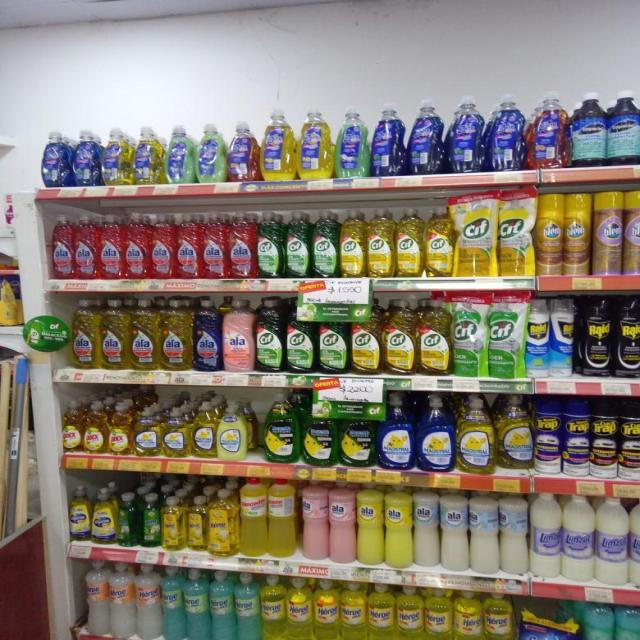ala_conc_amarillo: (161, 299, 192, 371), (70, 297, 100, 370), (130, 299, 159, 371), (101, 298, 129, 371)
ala_conc_azul: (194, 298, 222, 372)
ala_conc_rojo: (228, 211, 256, 279), (125, 212, 150, 281), (176, 212, 201, 280), (202, 212, 227, 280), (99, 213, 124, 280), (151, 212, 175, 280), (74, 213, 98, 280), (50, 214, 74, 280)
ala_crem_amarillo: (357, 482, 384, 566), (386, 484, 412, 568)
ala_crem_blanco: (470, 489, 498, 575), (500, 492, 528, 577), (441, 488, 468, 572), (413, 486, 440, 568)
ala_crem_rosado: (329, 480, 356, 564), (301, 479, 328, 561)
ala_ultra_rosa: (222, 298, 255, 372)
cif_conc_bot_amarilla: (418, 297, 451, 377), (384, 298, 417, 376), (351, 297, 382, 375), (396, 206, 424, 278), (425, 206, 453, 277), (367, 208, 394, 278), (340, 208, 366, 278)
cif_conc_botella_verde: (285, 299, 316, 374), (318, 301, 348, 374), (256, 298, 284, 372), (257, 211, 284, 278), (312, 209, 338, 278), (285, 210, 310, 278)
cif_conc_sachet_amarillo: (455, 190, 496, 278), (498, 187, 534, 277)
cif_conc_sachet_verde: (488, 291, 525, 379), (452, 292, 487, 378)
gigante: (582, 601, 614, 640), (614, 604, 640, 639)
heroe: (135, 564, 161, 640), (110, 562, 135, 639), (85, 560, 109, 638), (186, 567, 210, 640), (162, 565, 185, 640), (236, 572, 261, 640), (211, 570, 235, 640), (261, 574, 286, 640), (340, 579, 367, 640), (287, 576, 313, 639), (368, 582, 396, 640), (314, 578, 340, 640), (484, 591, 515, 640), (425, 586, 453, 640), (397, 585, 424, 640), (454, 589, 483, 640), (187, 494, 207, 552)
magistral_con_amarillo: (456, 395, 495, 474), (497, 394, 532, 471), (162, 407, 190, 458), (191, 402, 216, 458), (134, 407, 160, 457)
magistral_con_azul: (378, 391, 415, 471), (417, 394, 454, 472)
magistral_con_crema: (218, 402, 249, 460)
odex: (108, 401, 133, 456), (83, 401, 107, 454), (61, 400, 82, 453)
zorro: (297, 108, 333, 180), (260, 106, 295, 180), (336, 105, 368, 177)
